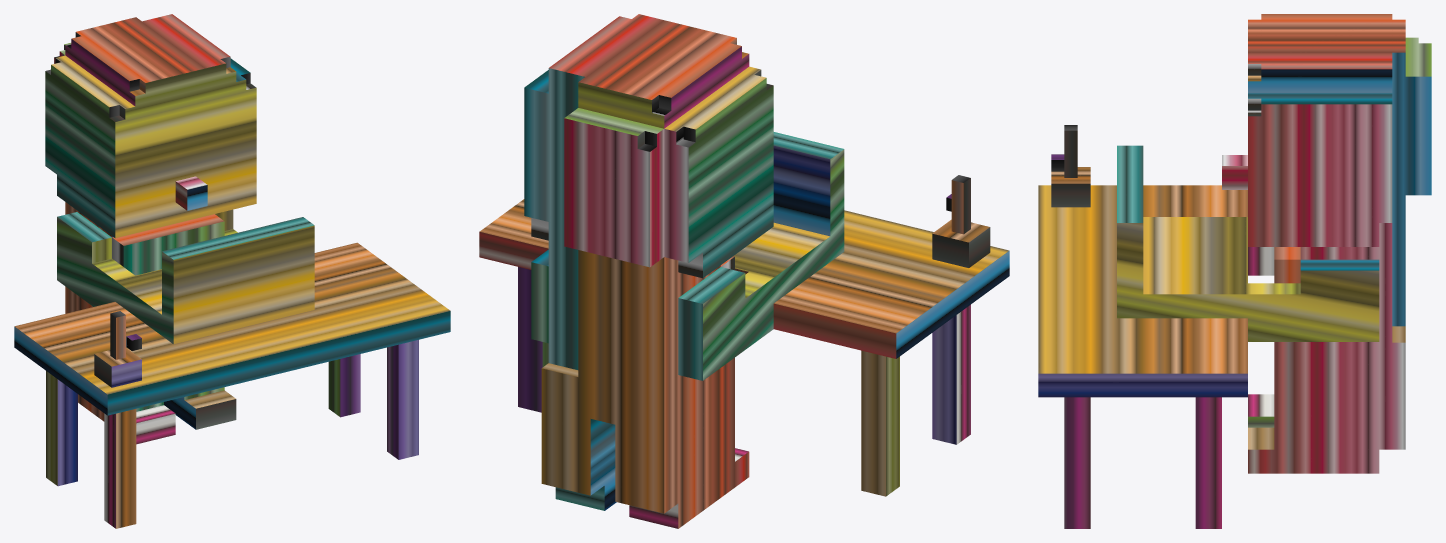
Rendered from developer8.glb.
3 views of the same model, side by side, from view 1: azimuth 30°, elevation 25°; view 2: azimuth 150°, elevation 25°; view 3: azimuth 270°, elevation 25° (orthographic). The views are drawn at different scales.
Visible parts, largest first — view 1: developer; view 2: developer; view 3: developer.
Part boxes in pixels (x1,y1,x2,y2): developer: (14,14,450,528); developer: (479,14,1009,528); developer: (1038,14,1431,528).
Size of what is drawn, in the model's own units: 3.4 by 3.4 by 3.
Materials: 1 (1 with a texture image).
